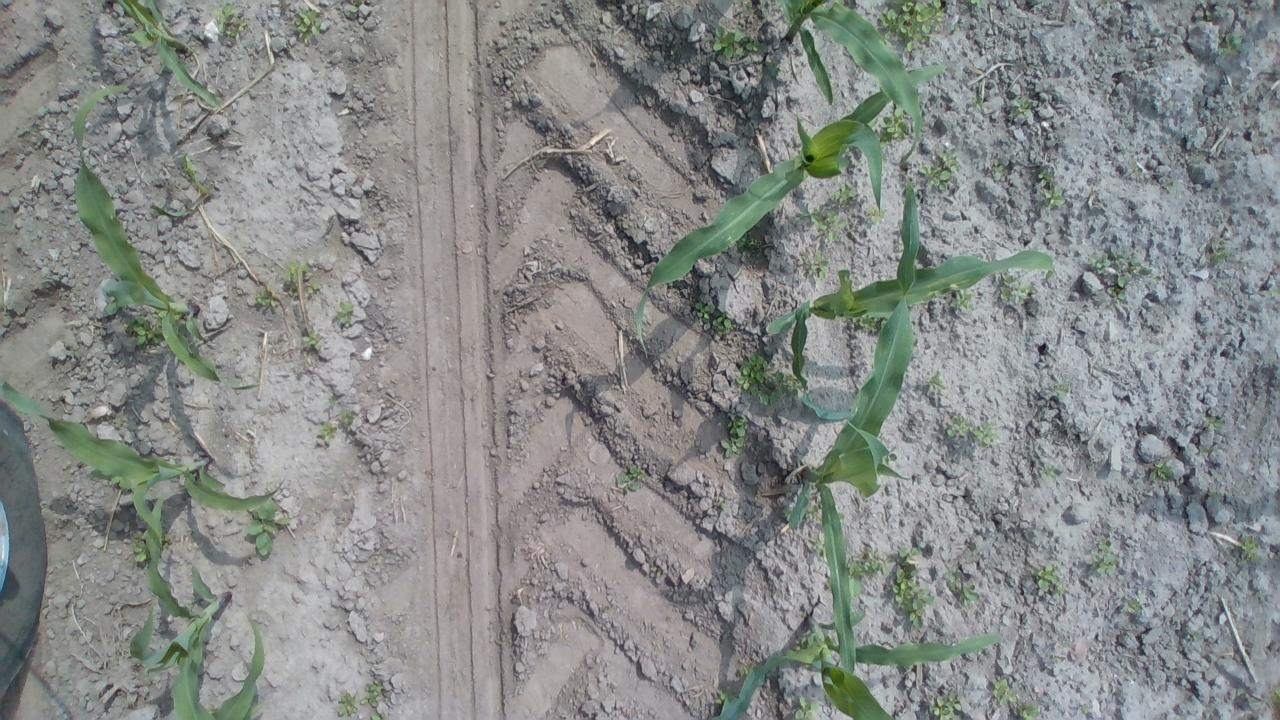Maize: (634, 62, 957, 362), (788, 175, 920, 674), (70, 84, 260, 391), (767, 249, 1059, 424), (1, 369, 288, 546), (707, 611, 1001, 720), (129, 491, 266, 720), (778, 0, 924, 164), (119, 0, 220, 110), (213, 614, 264, 720), (148, 150, 214, 224)
Weeds: (876, 0, 950, 52), (889, 566, 935, 633), (1107, 248, 1163, 301), (244, 499, 290, 557), (794, 202, 846, 244), (920, 148, 960, 194), (694, 300, 738, 337), (1030, 562, 1070, 602), (737, 351, 774, 394), (758, 369, 798, 408), (849, 547, 880, 597), (211, 0, 249, 40), (281, 260, 322, 296), (1086, 534, 1118, 578), (945, 568, 981, 606), (1038, 166, 1068, 210), (880, 107, 911, 148), (718, 416, 748, 458), (996, 271, 1034, 304), (1197, 234, 1234, 266), (125, 314, 162, 345), (291, 7, 322, 44), (713, 25, 744, 60), (612, 464, 644, 496), (1216, 30, 1248, 61), (932, 689, 962, 720), (972, 417, 1001, 448), (804, 248, 830, 280), (1149, 453, 1176, 480), (360, 680, 386, 708), (994, 676, 1020, 704), (831, 182, 860, 207), (253, 284, 280, 310), (946, 412, 970, 441), (922, 366, 948, 391), (950, 290, 976, 315), (794, 693, 818, 720), (1087, 252, 1113, 276), (338, 690, 358, 720), (1243, 534, 1264, 562), (317, 421, 338, 448), (130, 531, 146, 564), (337, 299, 357, 325), (810, 530, 826, 562), (1018, 701, 1044, 720), (862, 205, 886, 224), (302, 330, 326, 348), (898, 547, 924, 563), (1048, 380, 1071, 398), (1186, 148, 1208, 166), (1202, 414, 1224, 432), (989, 159, 1008, 179), (1123, 596, 1142, 616), (1012, 96, 1030, 116), (744, 36, 765, 53), (1200, 0, 1215, 23), (739, 236, 756, 255), (339, 409, 358, 426), (1130, 161, 1147, 180), (794, 635, 814, 650), (714, 686, 729, 706), (1268, 682, 1280, 705), (971, 93, 988, 108), (650, 565, 666, 580), (1040, 463, 1056, 478), (803, 505, 817, 522), (1056, 638, 1078, 648), (349, 0, 363, 14), (1052, 654, 1068, 666), (1186, 633, 1206, 642), (160, 532, 172, 546), (1076, 704, 1090, 716), (1164, 180, 1176, 194), (1201, 445, 1216, 456), (326, 395, 337, 409), (598, 601, 608, 615), (1097, 0, 1114, 8), (369, 712, 388, 719), (1207, 490, 1220, 498), (738, 666, 748, 676), (783, 506, 792, 517), (969, 0, 984, 6), (949, 22, 960, 30), (721, 502, 728, 509)
